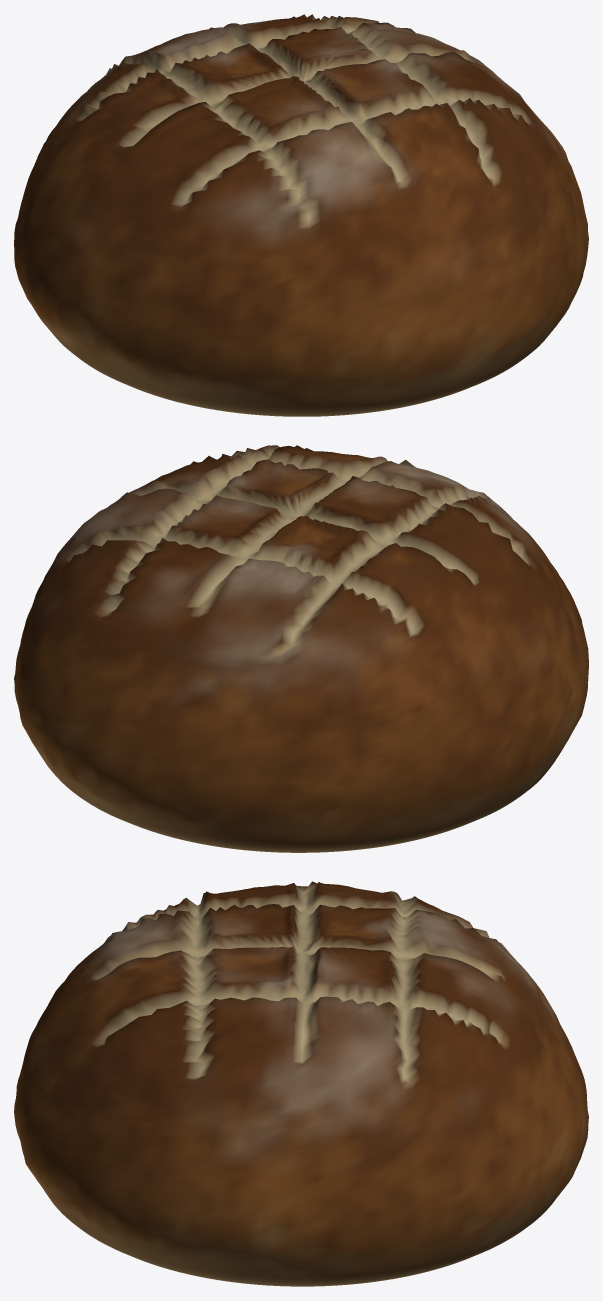
File: kerbricher-750g.glb
The picture shows the model from 3 angles, top to bottom: view 1: azimuth 30°, elevation 25°; view 2: azimuth 150°, elevation 25°; view 3: azimuth 270°, elevation 25°; orthographic projection.
Parts seen in each view (by area): view 1: kerbricher-750g; view 2: kerbricher-750g; view 3: kerbricher-750g.
Part boxes in pixels (<box>): kerbricher-750g: <box>14,14,588,416</box>; kerbricher-750g: <box>14,445,588,852</box>; kerbricher-750g: <box>14,881,588,1286</box>.
Size of the model in its own units: 0.206 by 0.0973 by 0.206.
